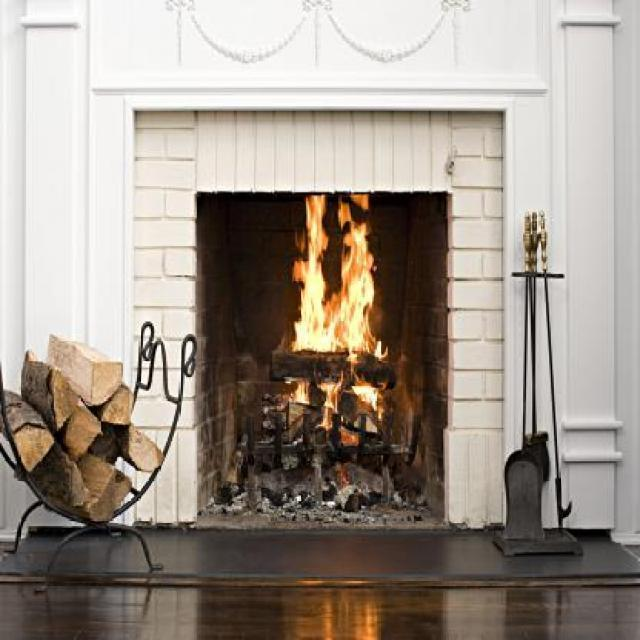Fire: (290, 190, 382, 356)
